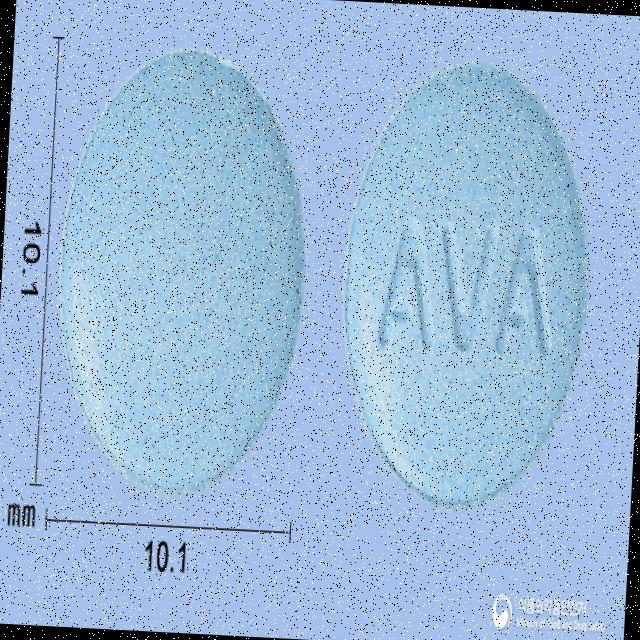Aclova 400mg: (44, 36, 320, 507), (332, 53, 602, 514)
